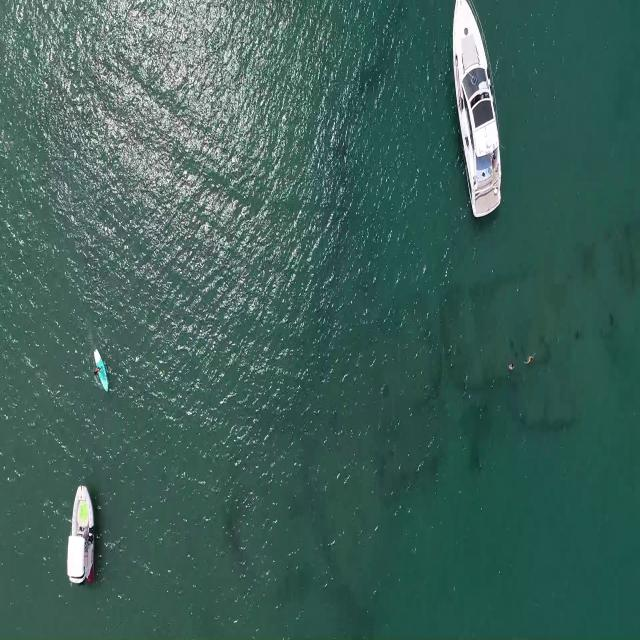boat: (450, 5, 504, 219), (65, 479, 97, 592)
person: (524, 352, 538, 367), (91, 362, 103, 378), (508, 363, 516, 373)
surfboard: (93, 347, 109, 397)
